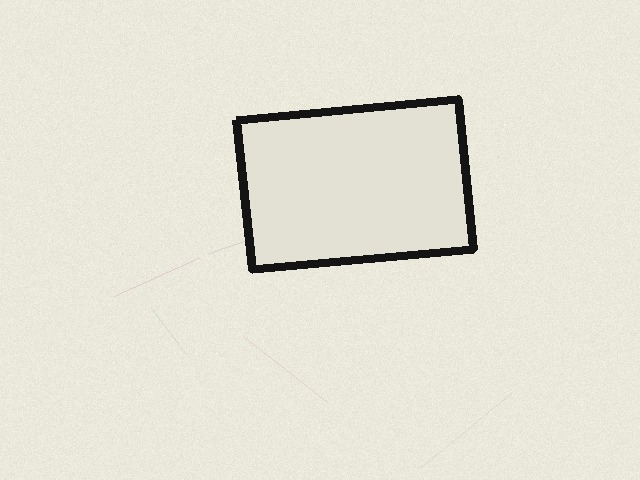parking_area: (236, 99, 473, 269)
